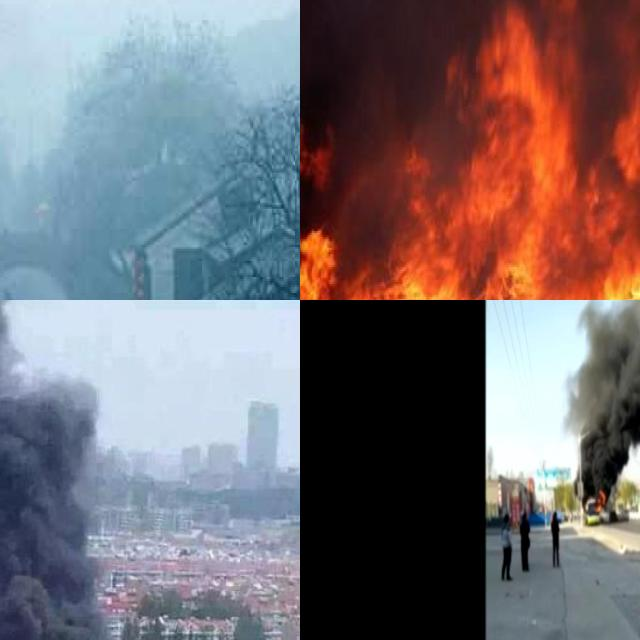fire: (300, 0, 640, 300), (593, 490, 607, 513)
smoke: (0, 300, 137, 640), (565, 300, 640, 489)
